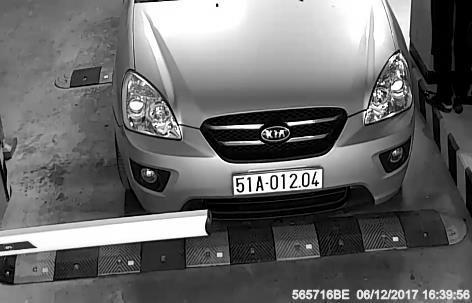License-plate: (221, 157, 337, 205)
